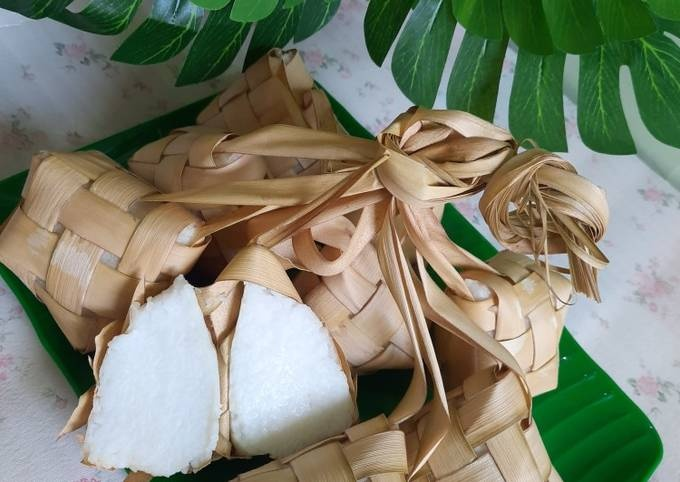ketupat: (2, 150, 211, 353)
